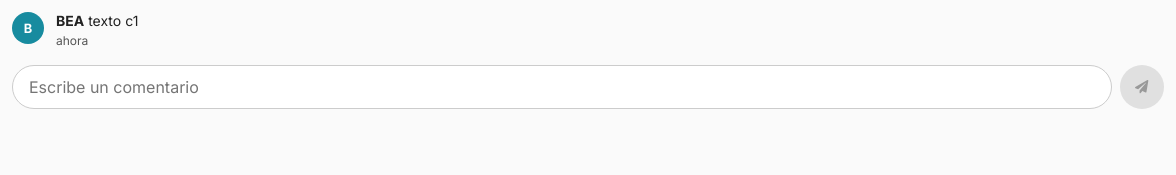
Test case: PostComments › adds her comment at the end and reports the new count
Expected: the text "texto c1" is shown, [88,12,138,29]
Type "  Qué bonito " into the field labelled "Escribe un comentario" at (562, 87), box [12,65,1112,109]
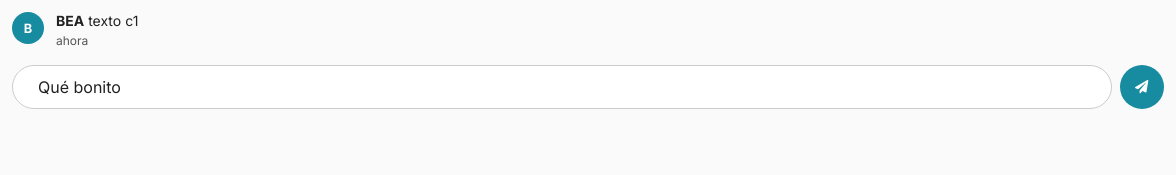
Click the button named "Enviar comentario" at (1142, 87), box [1120,65,1164,109]
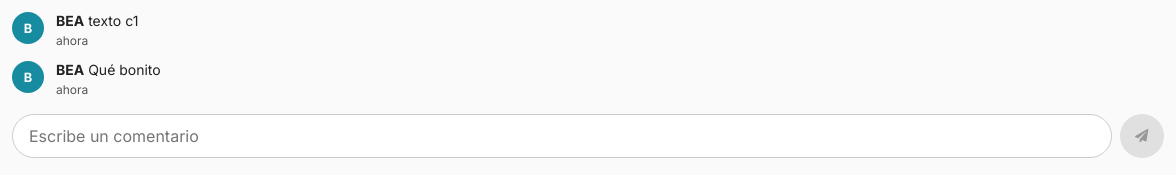
Result: the text "Qué bonito" is shown at [88,61,161,78]
